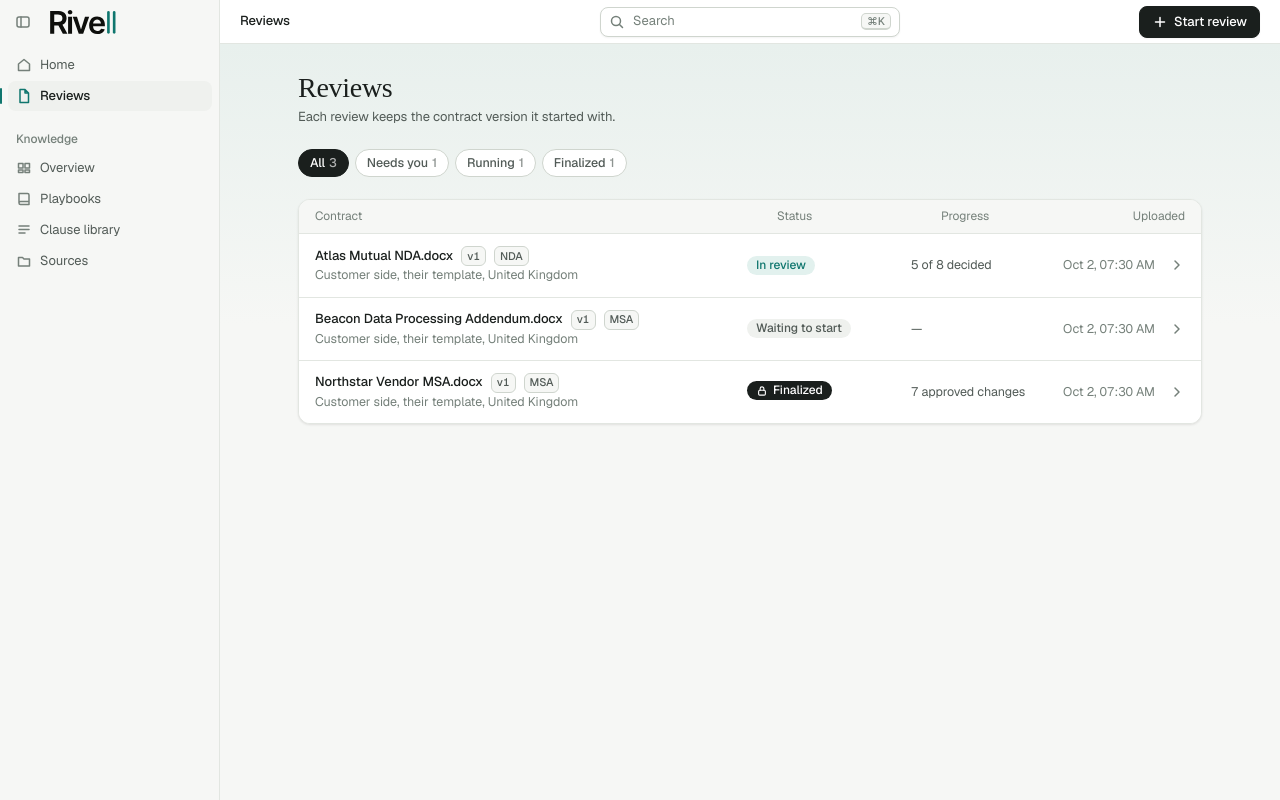
Test: Reviews page › opens the canonical Start Review page from Start review
Step 1. Click the link "Start review" → [1200, 22], box [1139,6,1260,38]
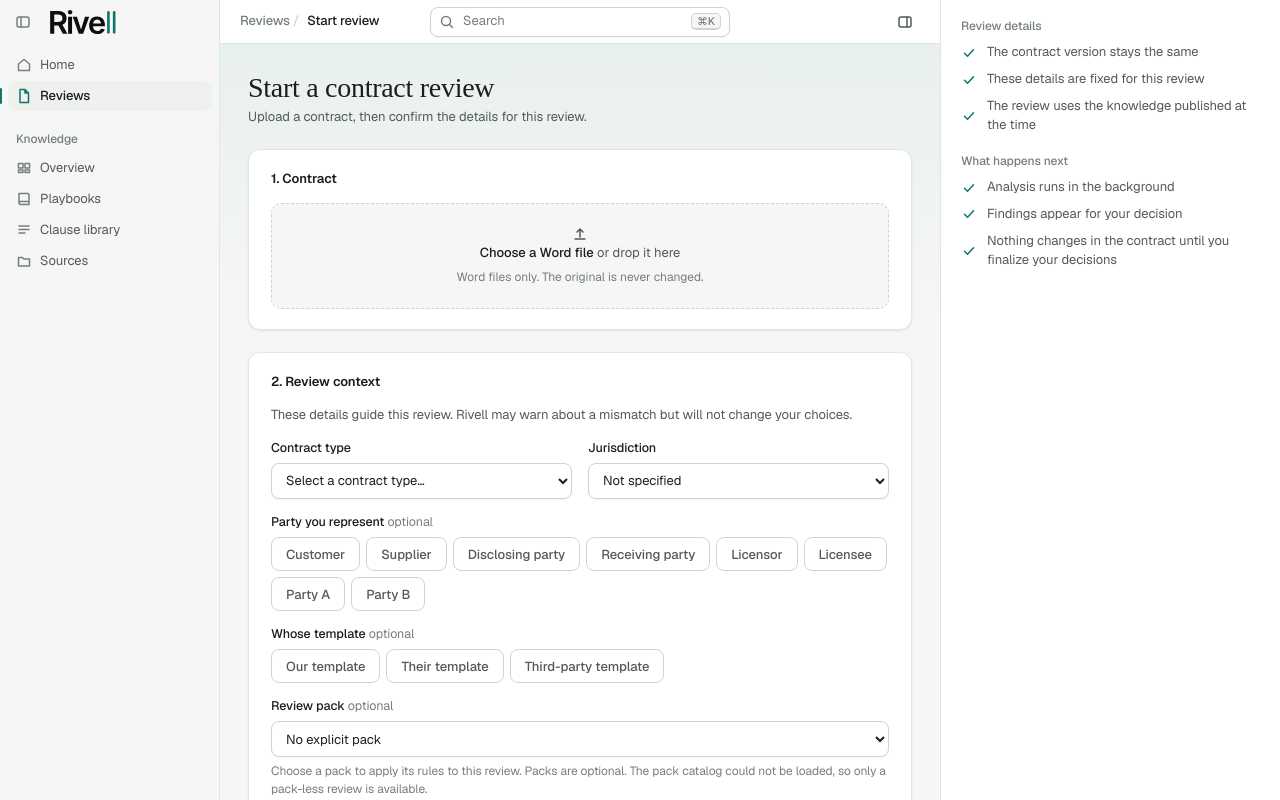
Now the heading "Start a contract review" is shown, box [248,72,494,103]
